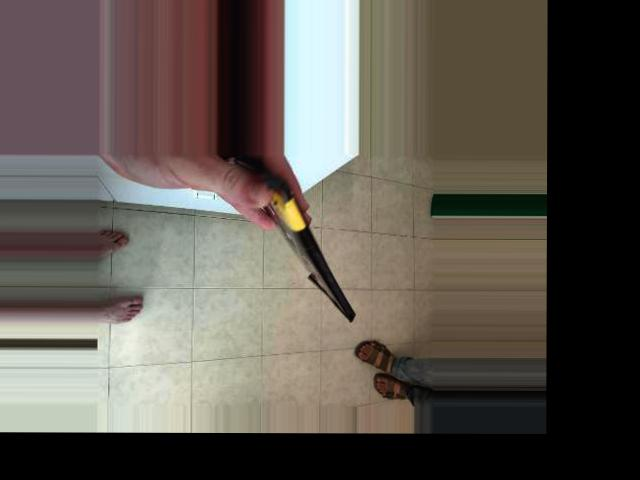chocolate: (235, 156, 353, 319)
